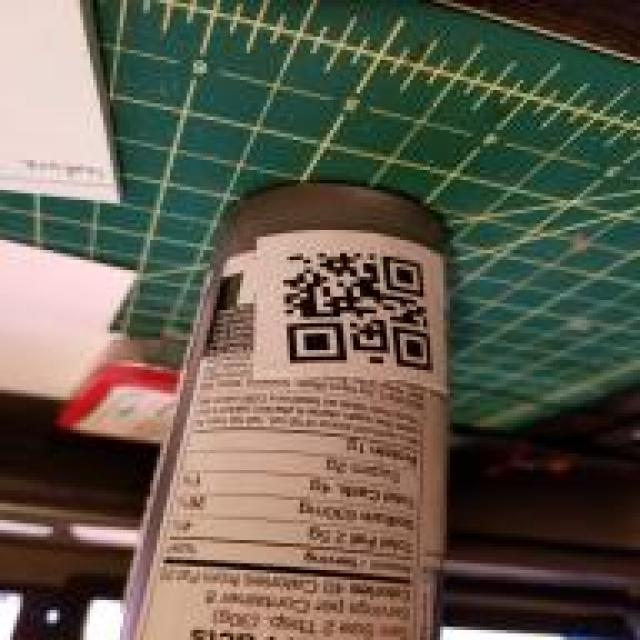QR_CODE: (258, 240, 444, 380)
